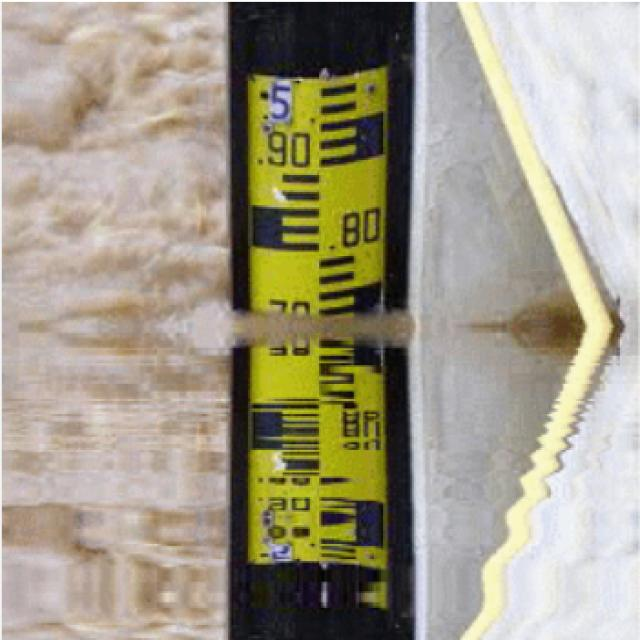ruler: (237, 56, 396, 326)
value: (324, 200, 386, 259), (253, 127, 314, 173), (265, 74, 296, 124)
